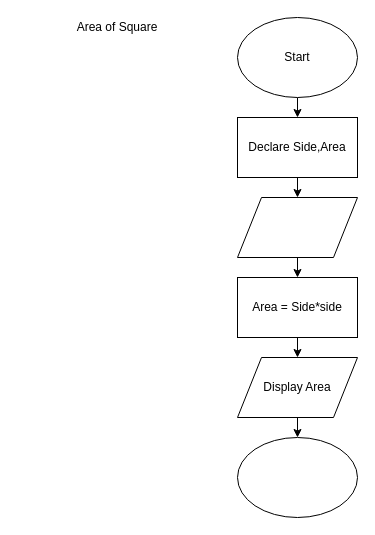
Some shapes in this 375 by 535 pixel diagram are drawn without their labels. The centre of each missing label's shape, as x and y in pixels:
"Read side" belongs at pixel 297 227.
"Stop" belongs at pixel 297 477.
